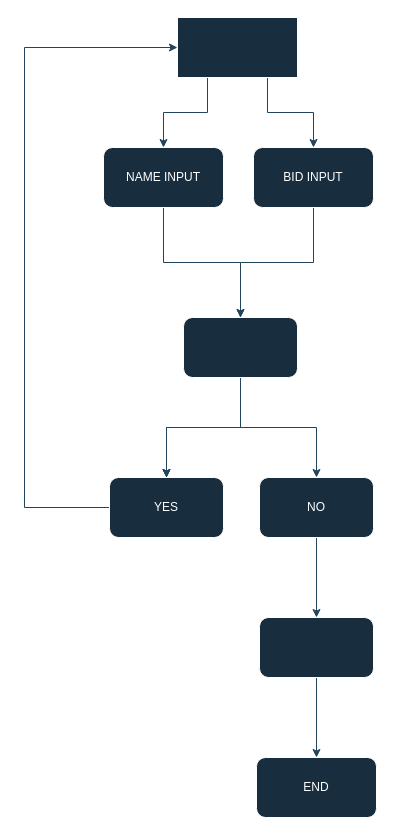
Image size: 394x835. Some labels were removed from this diagram. Here are the shapes that lost their labels. From the top down, the centre of each, then its label:
the point at 237,47: Start
the point at 240,347: ANYONE ELSE (STORED ALL iNPUTS)
the point at 316,647: CHECKING THE HIGHEST BIDDER
